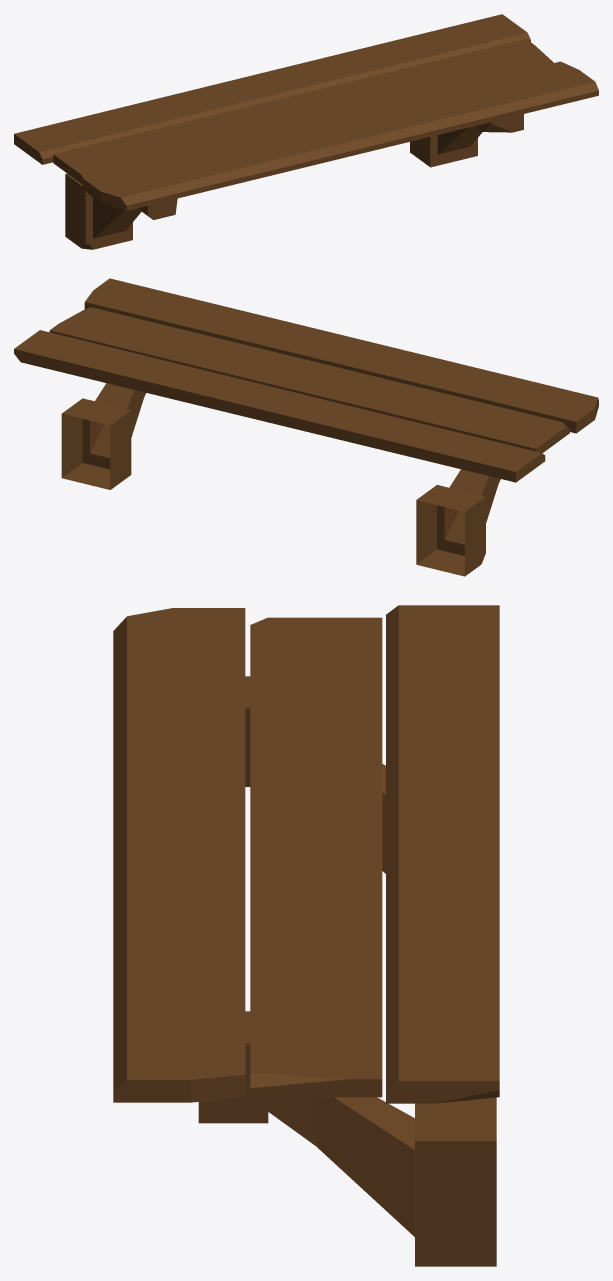
File: ShelfWall.fbx
3 renders of one model, top to bottom at view 1: azimuth 30°, elevation 25°; view 2: azimuth 150°, elevation 25°; view 3: azimuth 270°, elevation 25°, orthographic. The views are drawn at different scales.
Parts seen in each view (by area): view 1: Cube.009; view 2: Cube.009; view 3: Cube.009.
Boxes of the visible parts, x1,y1,x2,y2 form: Cube.009: (14, 14, 598, 249); Cube.009: (14, 278, 598, 576); Cube.009: (113, 605, 499, 1266).
Bounding box in the file's own units: 122 × 27.67 × 41.89.
